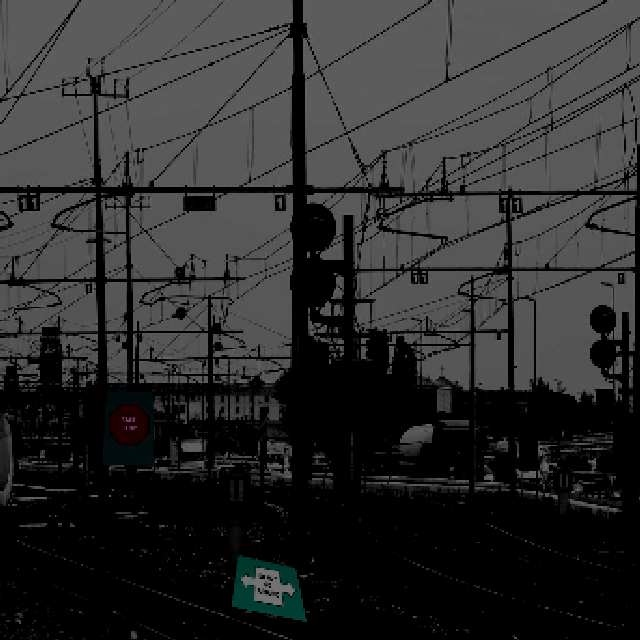DO_NOT_GO_AROUND: (236, 561, 299, 608)
FAKE_STOP: (107, 402, 149, 445)
